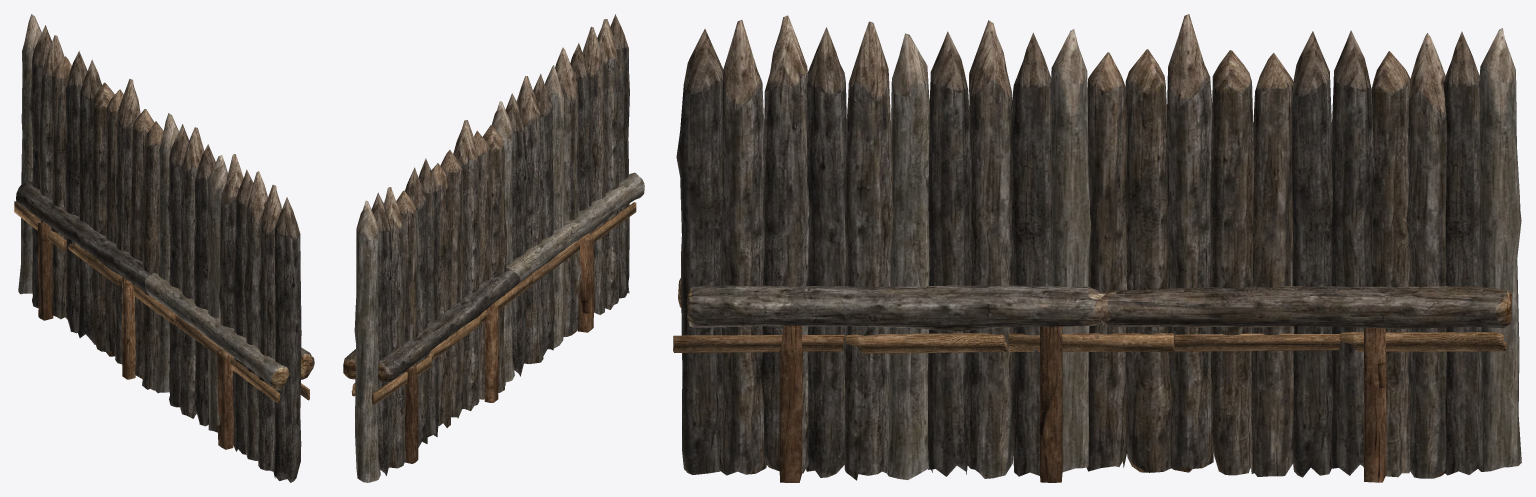
File: o_mdl_env_buildingLogWoodSculptWallA-transformed.glb
3 renders of one model, left to right at view 1: azimuth 30°, elevation 25°; view 2: azimuth 150°, elevation 25°; view 3: azimuth 270°, elevation 25°, orthographic. The views are drawn at different scales.
Parts seen in each view (by area): view 1: default; view 2: default; view 3: default.
Boxes of the visible parts, <box> form: default: <box>14,14,314,482</box>; default: <box>343,14,644,482</box>; default: <box>673,14,1521,482</box>.
Bounding box in the file's own units: 1.72 × 9.47 × 15.86.
2 materials, 2 textured.
